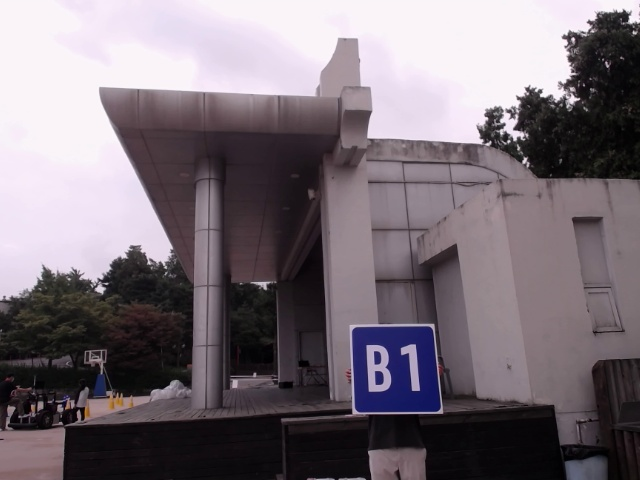delivery_b1: (350, 324, 443, 414)
